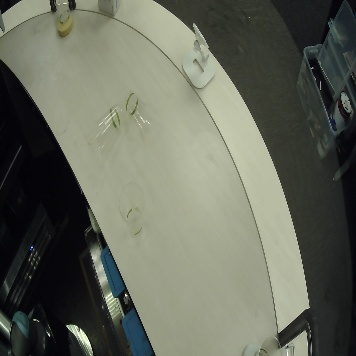empty_cup: (115, 179, 152, 235), (94, 104, 126, 153), (128, 90, 160, 139), (256, 333, 285, 356), (52, 1, 72, 22)
puck: (51, 17, 81, 40), (240, 336, 260, 356)
